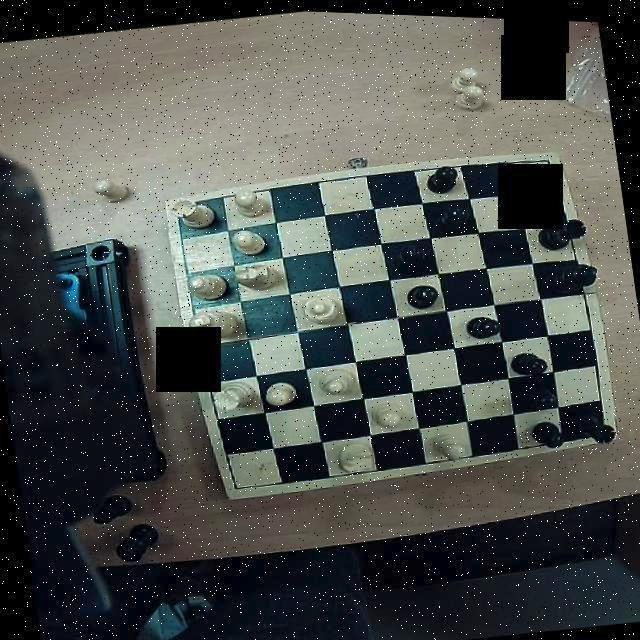chess-table-corners: (224, 458, 256, 494), (170, 195, 200, 229), (585, 406, 616, 438), (533, 149, 562, 176)
